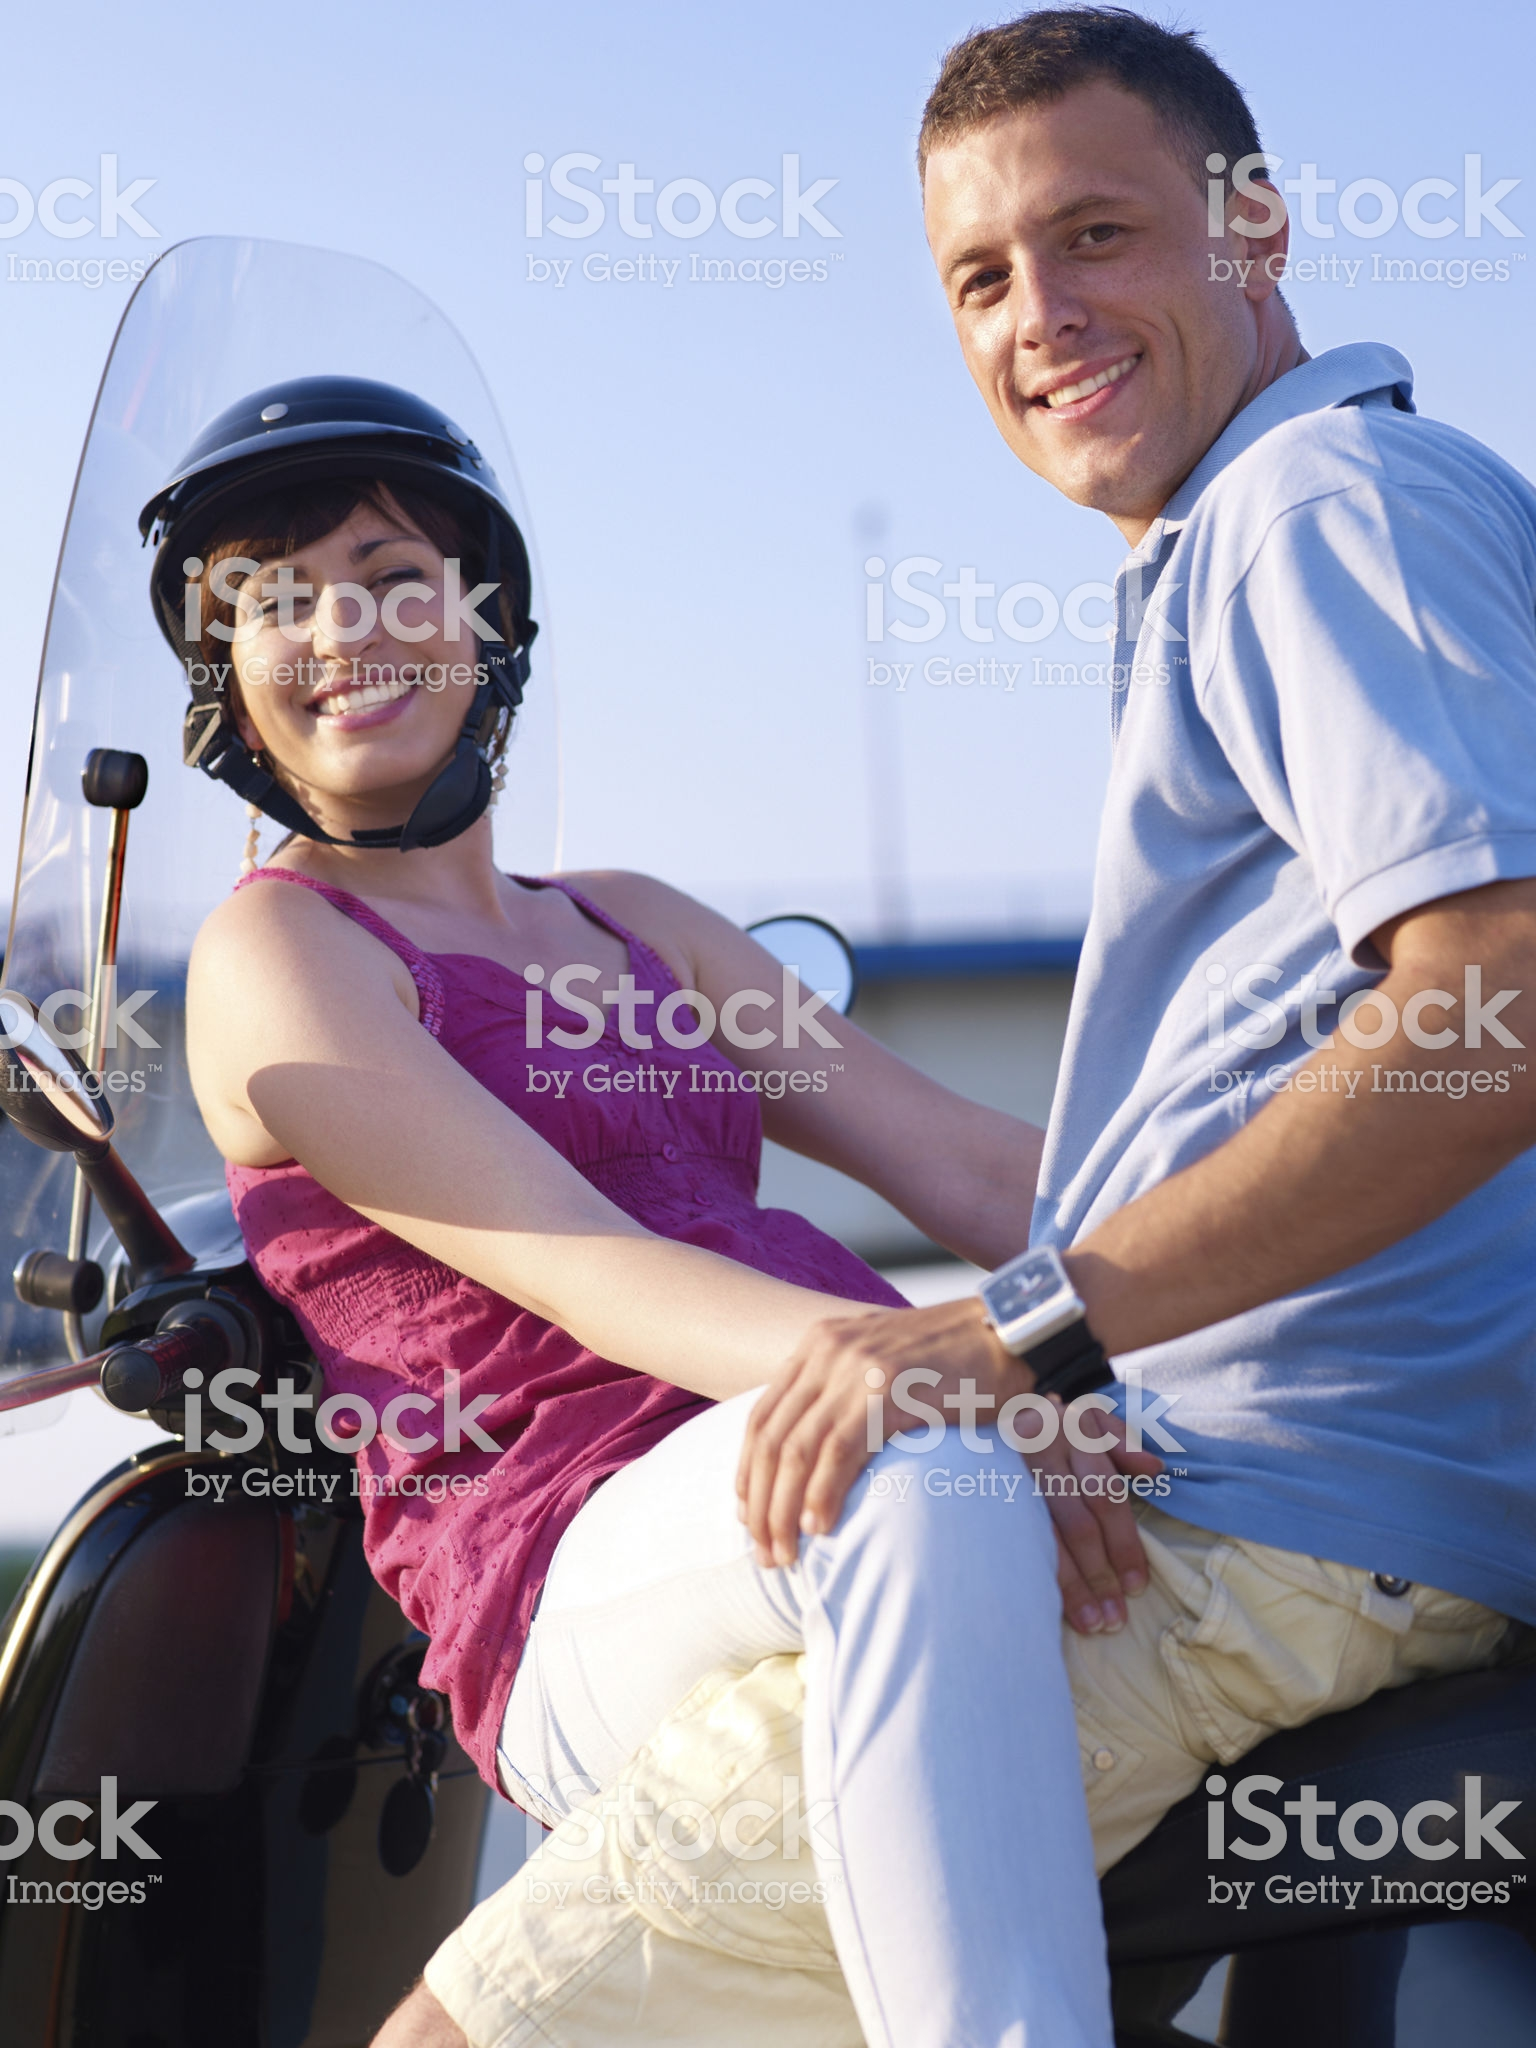helmet: (139, 369, 516, 563)
